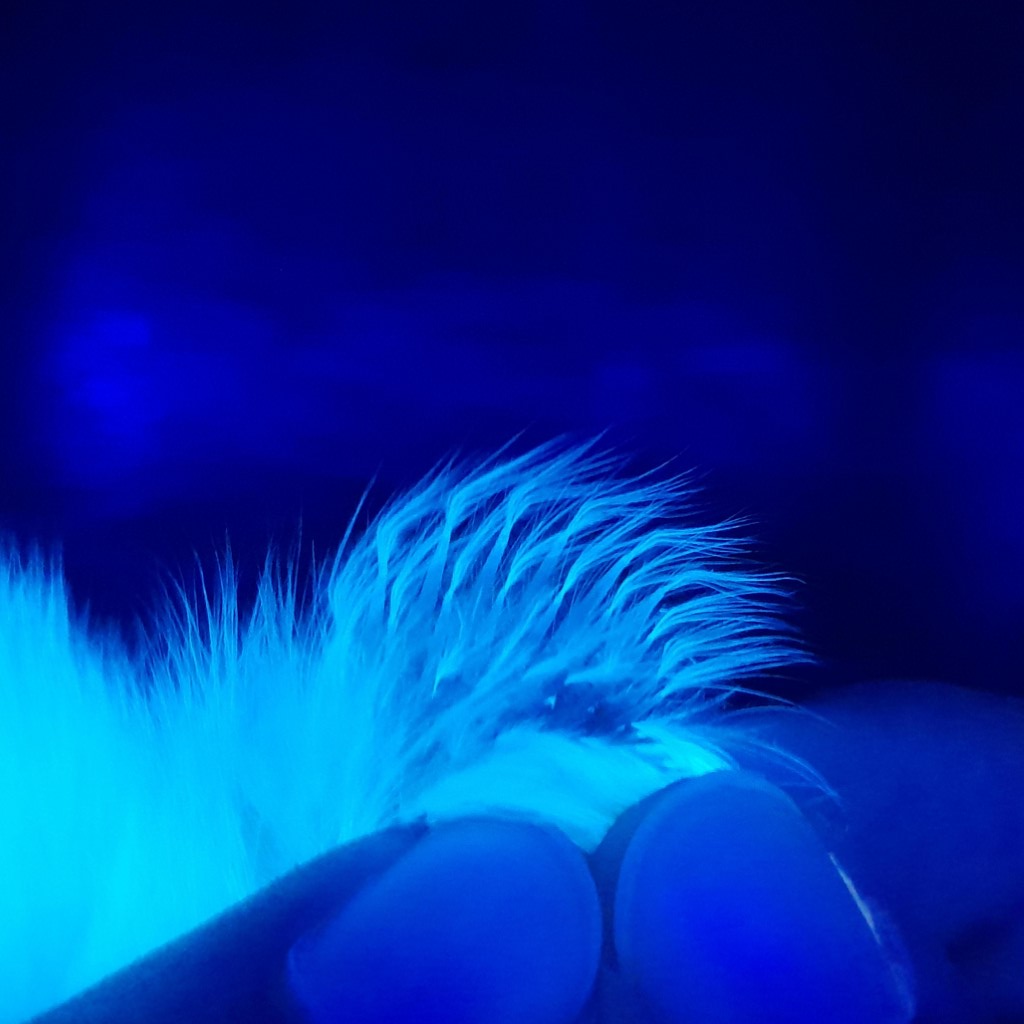female: (445, 513, 707, 746)
